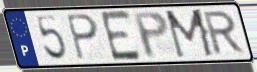5: (34, 14, 70, 63)
E: (98, 9, 144, 64)
M: (162, 7, 217, 60)
P: (131, 10, 171, 60), (64, 13, 101, 62)
R: (201, 9, 247, 57)
